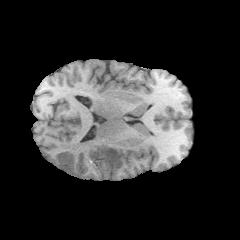glioma: (60, 138, 133, 176)
